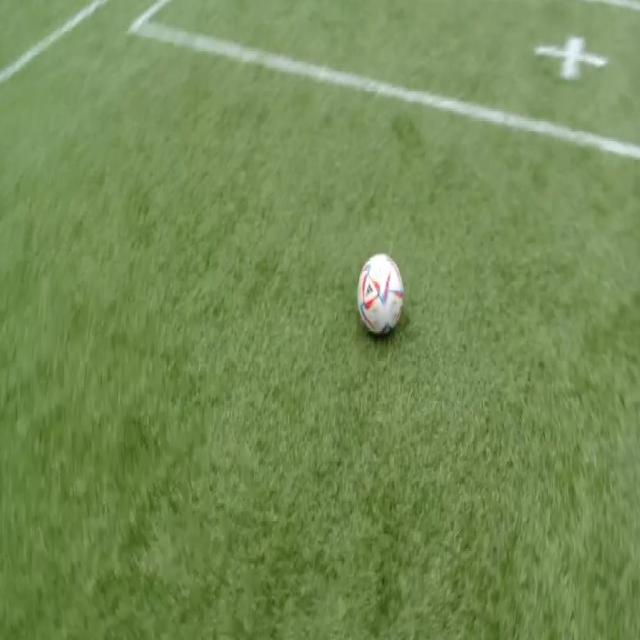ball: (358, 254, 403, 335)
